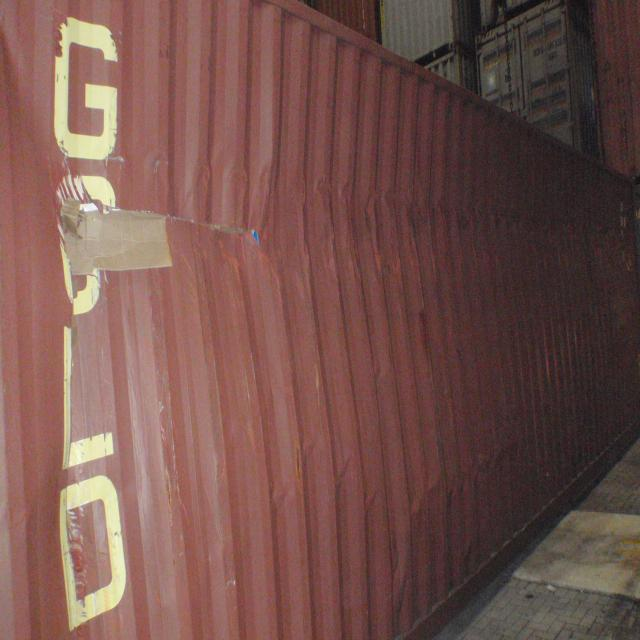dent: (267, 197, 623, 240), (482, 414, 588, 493), (327, 566, 436, 640), (403, 450, 480, 540), (58, 142, 171, 179), (184, 152, 263, 198), (1, 1, 28, 111), (337, 460, 386, 506)
